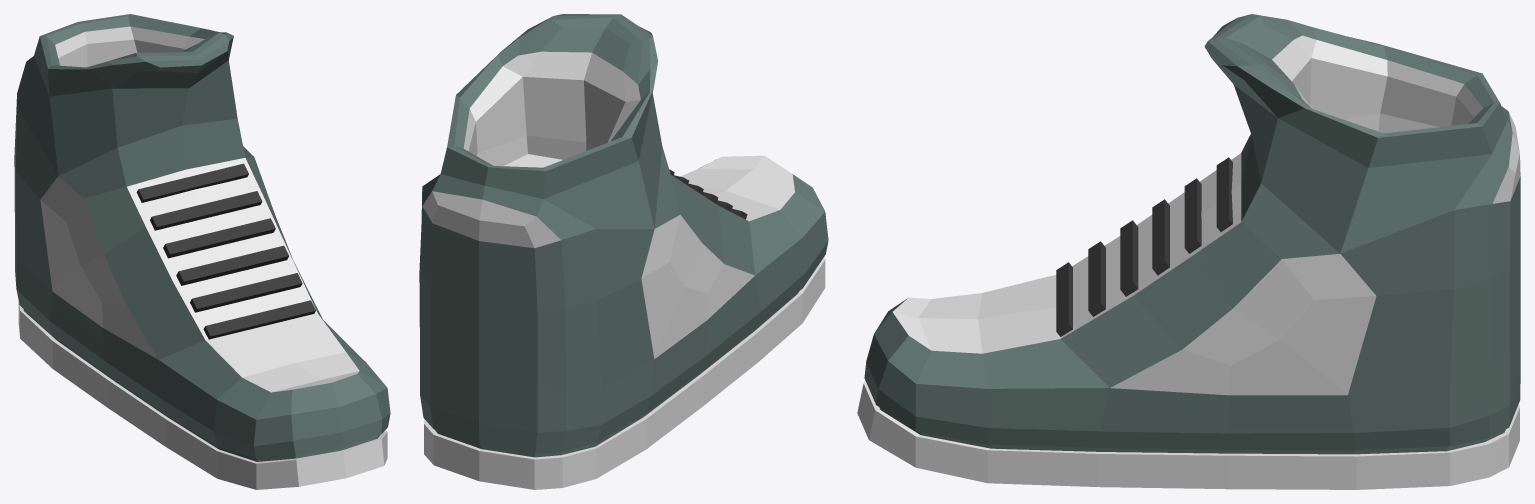
File: Clothes9_C3.fbx
3 views of the same model, side by side, from view 1: azimuth 30°, elevation 25°; view 2: azimuth 150°, elevation 25°; view 3: azimuth 270°, elevation 25° (orthographic). The views are drawn at different scales.
Parts seen in each view (by area): view 1: Clothes9_C3; view 2: Clothes9_C3; view 3: Clothes9_C3.
Part boxes in pixels (bbox=[...]): Clothes9_C3: bbox=[14, 14, 390, 489]; Clothes9_C3: bbox=[419, 14, 828, 489]; Clothes9_C3: bbox=[857, 14, 1520, 489].
Size of the model in its own units: 7.6 by 13.71 by 20.49.
